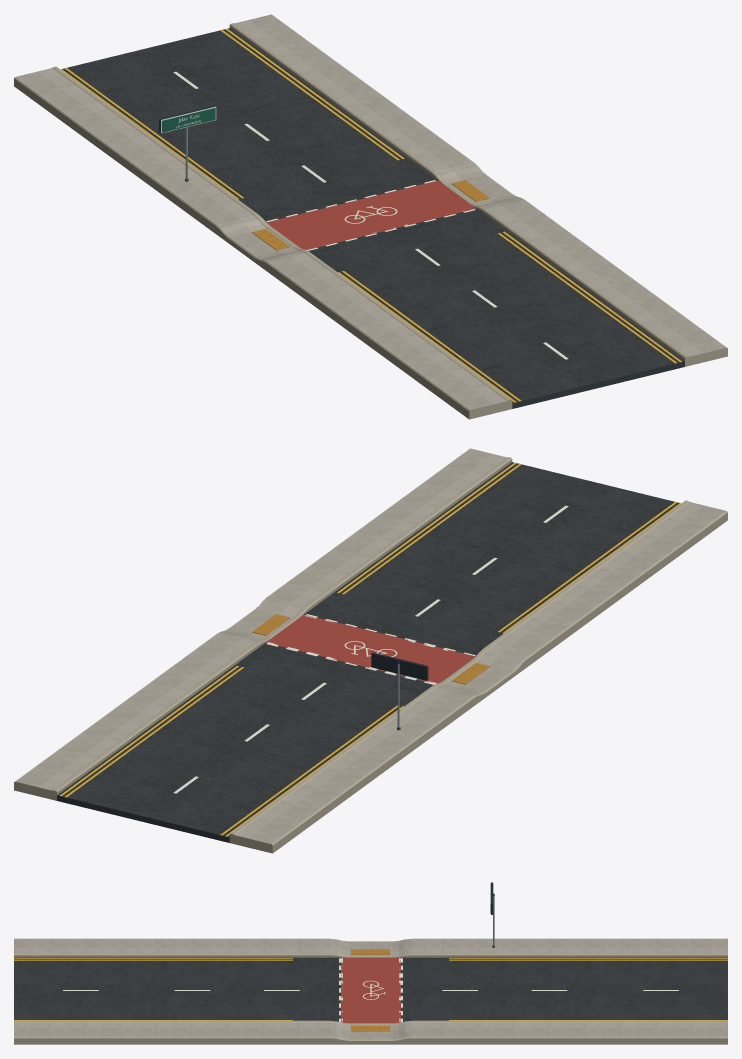
The picture shows the model from 3 angles, top to bottom: view 1: azimuth 30°, elevation 25°; view 2: azimuth 150°, elevation 25°; view 3: azimuth 270°, elevation 25°; orthographic projection. The views are drawn at different scales.
Parts seen in each view (by area): view 1: Road Deck, Kerbs and Footways, Cycle Crossing, Road Markings, Local Street Signs, Tactile Paving; view 2: Road Deck, Kerbs and Footways, Cycle Crossing, Road Markings, Local Street Signs, Tactile Paving; view 3: Road Deck, Kerbs and Footways, Cycle Crossing, Road Markings, Tactile Paving.
Boxes of the visible parts, x1,y1,x2,y2 form: Road Deck: (62,28,684,408); Kerbs and Footways: (14,14,727,419); Cycle Crossing: (267,180,475,249); Road Markings: (60,28,681,402); Local Street Signs: (159,105,216,181); Tactile Paving: (252,180,489,250); Road Deck: (57,462,679,842); Kerbs and Footways: (14,448,727,853); Cycle Crossing: (266,614,474,683); Road Markings: (60,462,681,836); Local Street Signs: (371,652,428,730); Tactile Paving: (252,614,489,684); Road Deck: (14,957,727,1021); Kerbs and Footways: (14,938,727,1044); Cycle Crossing: (341,957,400,1023); Road Markings: (14,958,727,1022); Tactile Paving: (351,949,390,1031).
Size of the model in its own units: 10.69 by 3.04 by 32.
Materials: 13 (2 with a texture image).
